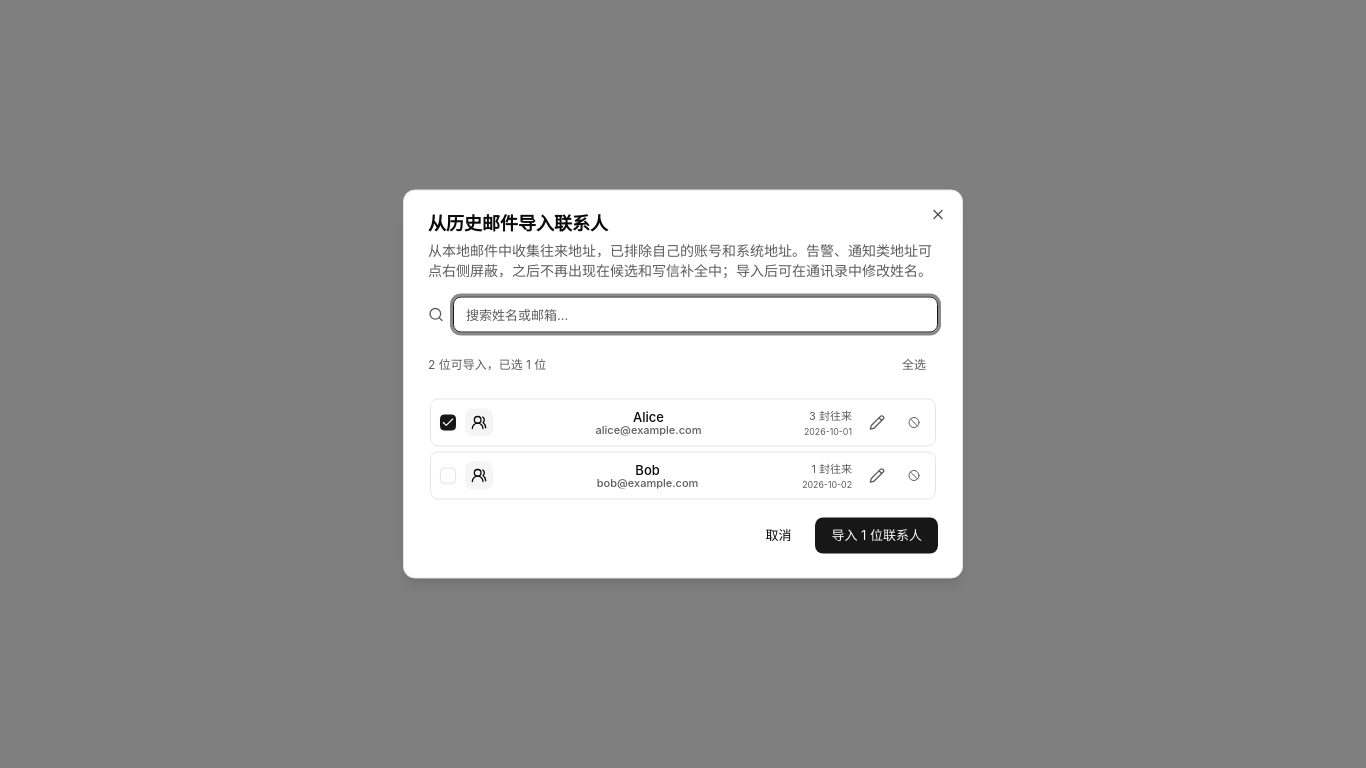
blocks an unwanted sender and keeps it out of the candidate list
Click the button named "屏蔽 alice@example.com" at (914, 422), box [902,410,926,434]
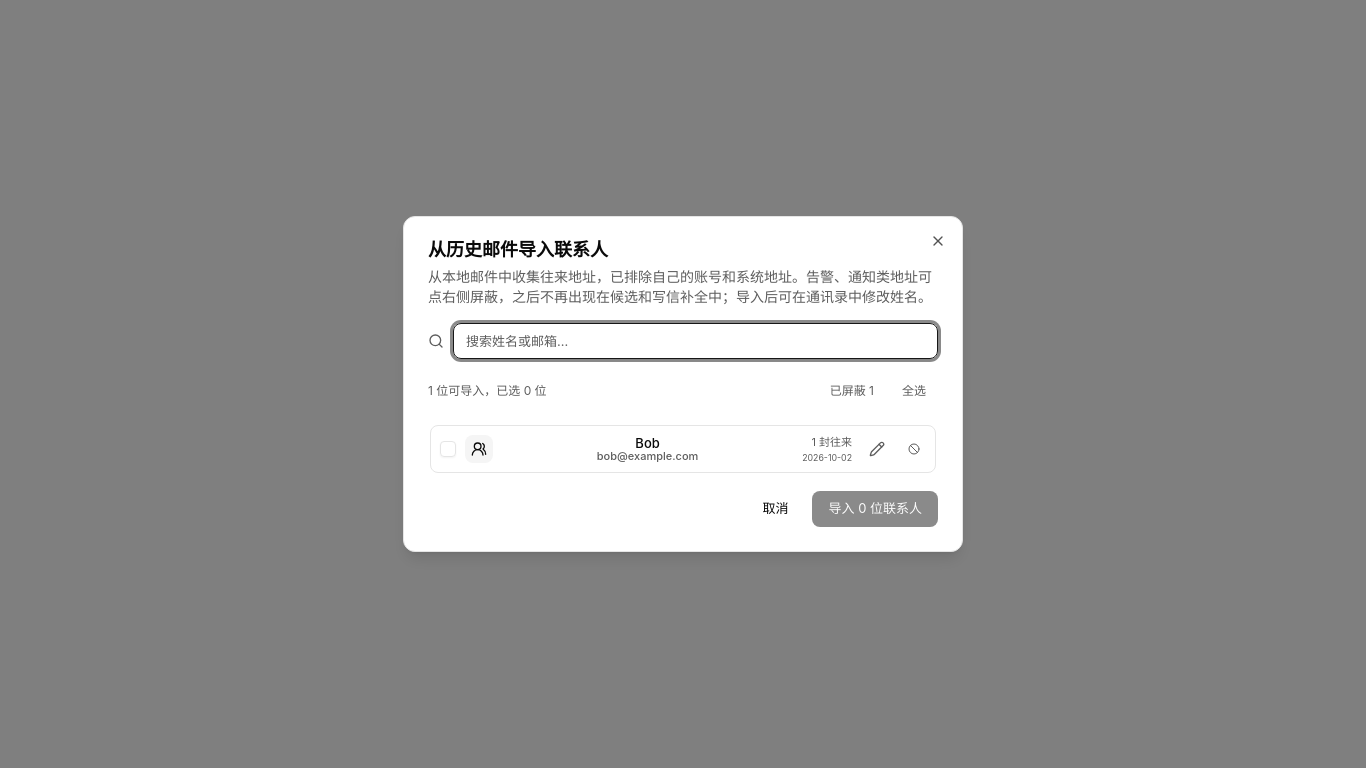
Now the text "alice@example.com" is gone
Now the text "已屏蔽 1" is shown, box [818,375,886,407]
